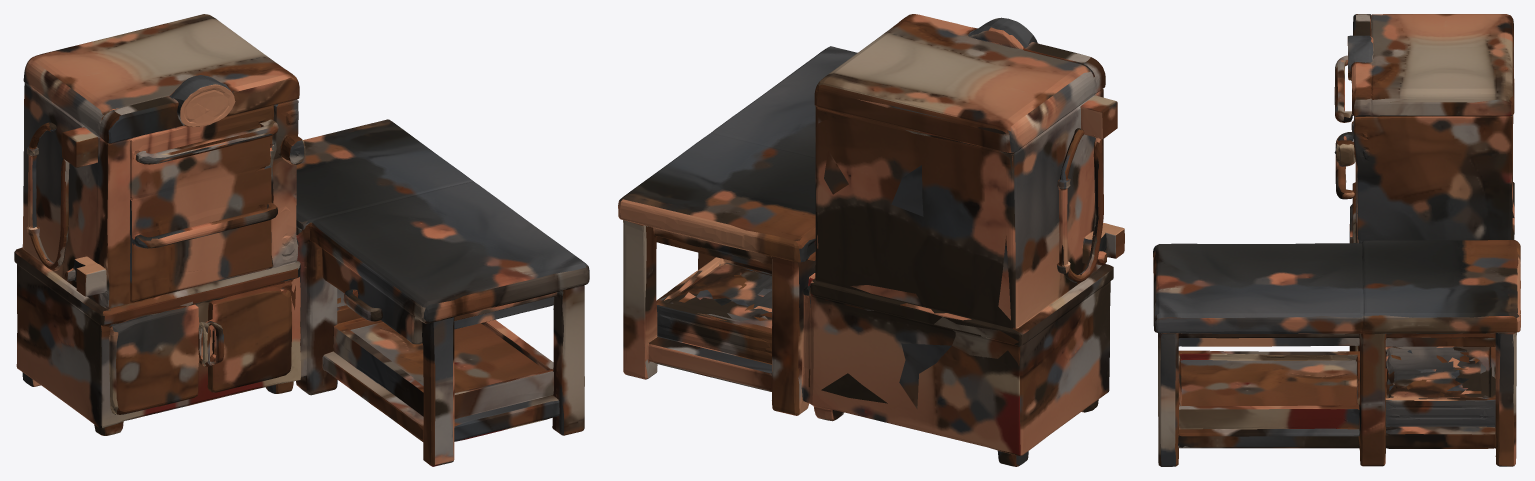
The model's file is Bread oven.fbx.
The picture shows the model from 3 angles, left to right: view 1: azimuth 30°, elevation 25°; view 2: azimuth 150°, elevation 25°; view 3: azimuth 270°, elevation 25°; orthographic projection. The views are drawn at different scales.
Parts seen in each view (by area): view 1: world; view 2: world; view 3: world.
Part boxes in pixels (x1,y1,x2,y2): world: [14, 14, 589, 466]; world: [618, 14, 1124, 466]; world: [1153, 14, 1520, 466].
Bounding box in the file's own units: 99.88 × 82.76 × 88.28.
